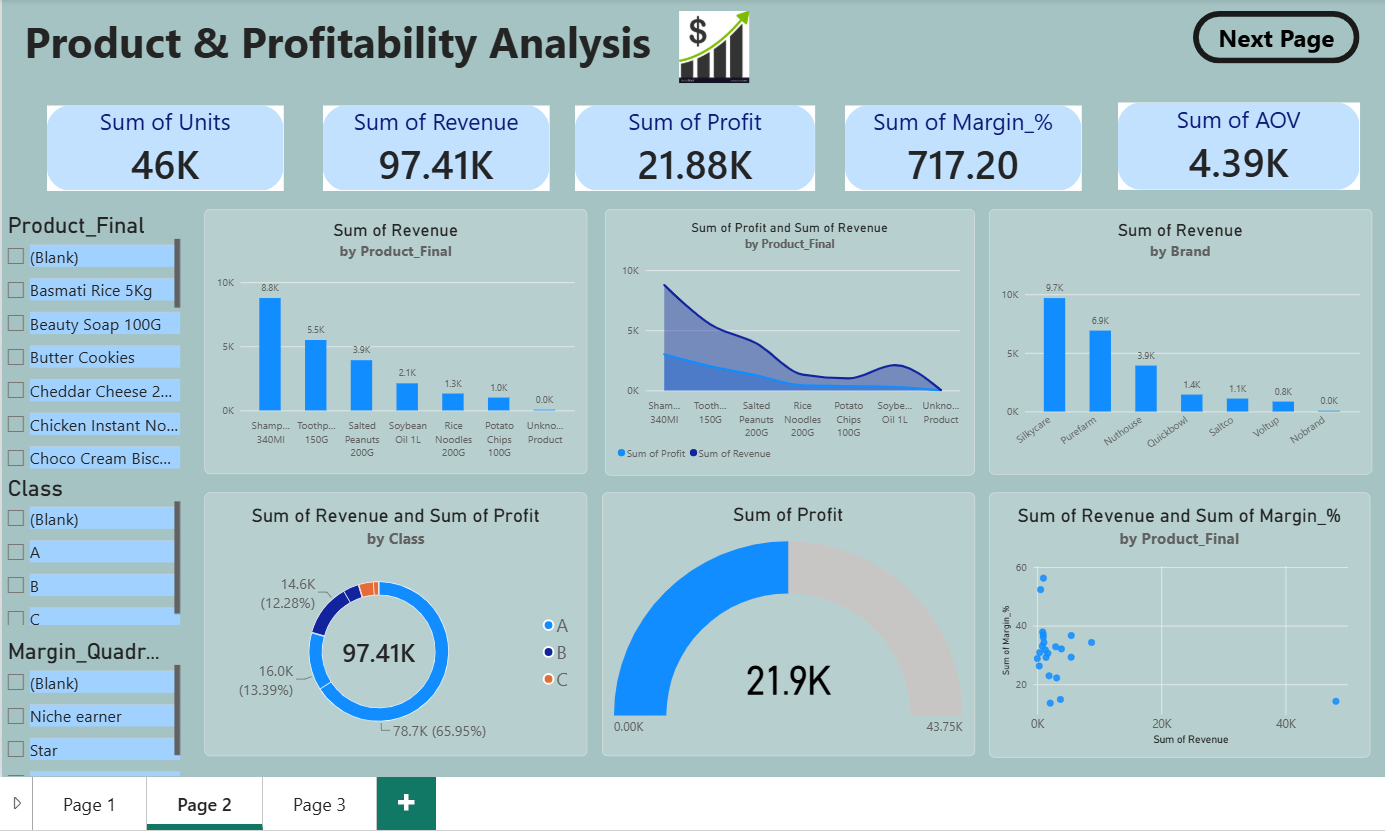

Layout of this report page (visuals, bound fields, positions):
{"tool":"powerbi","page":{"name":"Page 2","canvas":[1920,1080],"ordinal":1},"visuals":[{"type":"textbox","box":[31.2,18.7,876.6,81.2],"z":0},{"type":"cardVisual","fields":{"Data":["Sum(Product_Analysis.Units)"]},"box":[63,146.9,328.8,118.9],"z":1000},{"type":"cardVisual","fields":{"Data":["Sum(Product_Analysis.Revenue)"]},"box":[445.4,146.9,314.8,118.9],"z":2000},{"type":"cardVisual","fields":{"Data":["Sum(Product_Analysis.Profit)"]},"box":[795.2,146.9,333.5,118.9],"z":3000},{"type":"cardVisual","fields":{"Data":["Sum(Product_Analysis.Margin_%)"]},"box":[1170.7,146.9,328.8,118.9],"z":4000},{"type":"cardVisual","fields":{"Data":["Sum(Product_Analysis.AOV)"]},"box":[1548.4,144.6,335.8,121.3],"z":5000},{"type":"columnChart","fields":{"Category":["Product_Analysis.Product_Final"],"Y":["Sum(Product_Analysis.Revenue)"]},"box":[281.6,290.7,531.5,368],"z":6000},{"type":"columnChart","fields":{"Category":["Brand_Analysis.Brand"],"Y":["Sum(Brand_Analysis.Revenue)"]},"box":[1369.6,290.7,531.7,368.5],"z":8000},{"type":"donutChart","fields":{"Category":["Product_ABC.Class"],"Y":["Sum(Product_ABC.Revenue)","Sum(Product_ABC.Profit)"]},"box":[281,685.9,531.5,365.7],"z":8001},{"type":"scatterChart","fields":{"Category":["Product_Analysis.Product_Final"],"X":["Sum(Product_Analysis.Revenue)"],"Y":["Sum(Product_Analysis.Margin_%)"]},"box":[1369.6,685.9,529.2,368],"z":8002},{"type":"areaChart","fields":{"Category":["Product_Analysis.Product_Final"],"Y":["Sum(Product_Analysis.Profit)","Sum(Product_Analysis.Revenue)"]},"box":[838.1,290.7,513.3,370.2],"z":8003},{"type":"slicer","fields":{"Values":["Product_Analysis.Product_Final"]},"box":[0,295.3,247.6,365.7],"z":8004},{"type":"slicer","fields":{"Values":["Product_ABC.Class"]},"box":[0,661,247.6,209],"z":8005},{"type":"gauge","fields":{"Y":["Sum(Product_ABC.Profit)"]},"box":[833.6,685.9,517.9,365.7],"z":8006},{"type":"slicer","fields":{"Values":["Product_Analysis.Margin_Quadrant"]},"box":[0,888.1,247.6,190.8],"z":8007},{"type":"image","box":[892.6,15.9,190.8,99.9],"z":8008},{"type":"actionButton","box":[1653.3,16.7,231.1,72.9],"z":8009}]}

Visuals, with their boxes on the page's 1920x1080 design canvas (x1, y1, x2, y2). These are canvas units, not pixel positions in the 1385x831 screenshot, which may show the page scaled, cropped or inside an application window:
textbox: 31:19:908:100
cardVisual - Sum(Product_Analysis.Units): 63:147:392:266
cardVisual - Sum(Product_Analysis.Revenue): 445:147:760:266
cardVisual - Sum(Product_Analysis.Profit): 795:147:1129:266
cardVisual - Sum(Product_Analysis.Margin_%): 1171:147:1500:266
cardVisual - Sum(Product_Analysis.AOV): 1548:145:1884:266
columnChart - Product_Analysis.Product_Final x Sum(Product_Analysis.Revenue): 282:291:813:659
columnChart - Brand_Analysis.Brand x Sum(Brand_Analysis.Revenue): 1370:291:1901:659
donutChart - Product_ABC.Class x Sum(Product_ABC.Revenue): 281:686:812:1052
scatterChart - Product_Analysis.Product_Final x Sum(Product_Analysis.Revenue): 1370:686:1899:1054
areaChart - Product_Analysis.Product_Final x Sum(Product_Analysis.Profit): 838:291:1351:661
slicer - Product_Analysis.Product_Final: 0:295:248:661
slicer - Product_ABC.Class: 0:661:248:870
gauge - Sum(Product_ABC.Profit): 834:686:1352:1052
slicer - Product_Analysis.Margin_Quadrant: 0:888:248:1079
image: 893:16:1083:116
actionButton: 1653:17:1884:90
